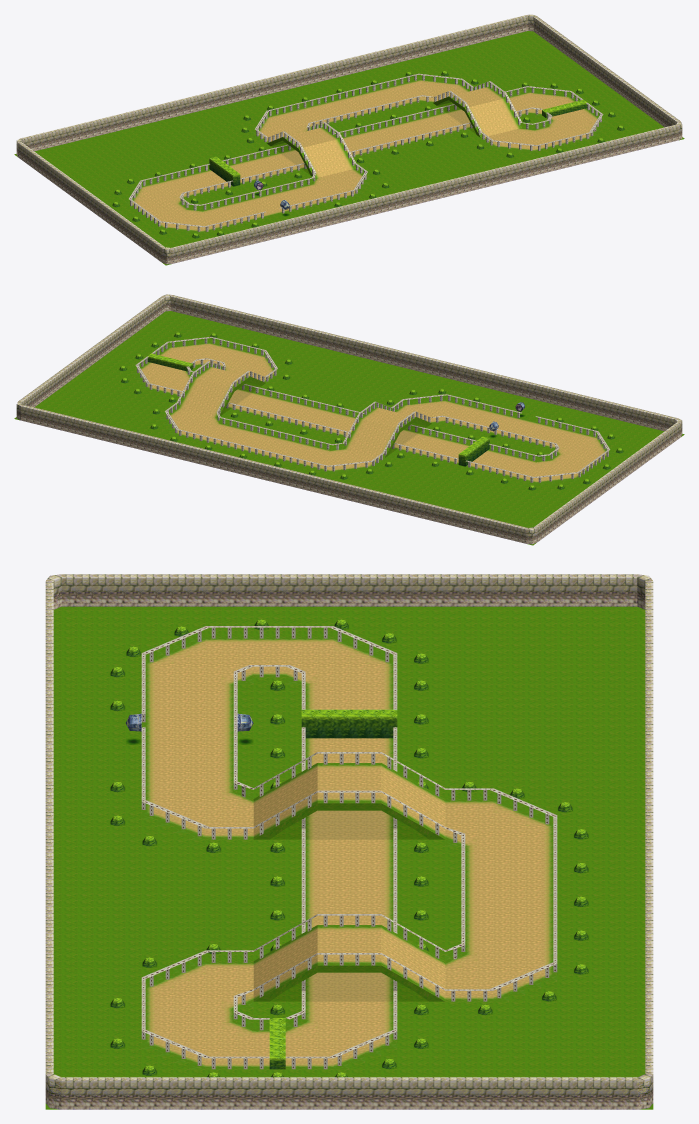
Rendered from catalog.obj.
3 views of the same model, one above another, from view 1: azimuth 30°, elevation 25°; view 2: azimuth 150°, elevation 25°; view 3: azimuth 270°, elevation 25° (orthographic). The views are drawn at different scales.
Size of the model in its own units: 1.17 by 0.0508 by 0.5938.
Materials: 14 (14 with a texture image).
